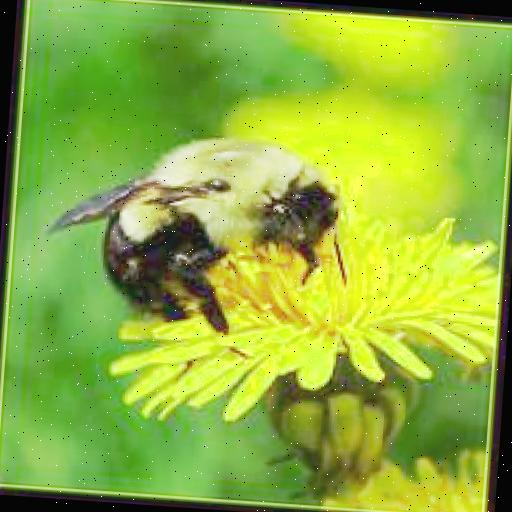dandelion: (116, 200, 499, 439)
